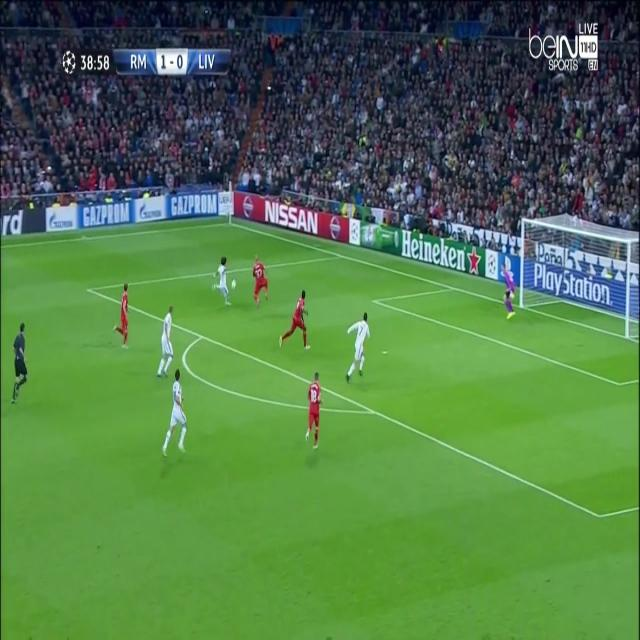Ball: (230, 276, 238, 294)
Goalkeeper: (501, 261, 518, 322)
Player: (162, 370, 188, 460), (276, 288, 312, 351), (344, 310, 373, 385), (304, 370, 324, 454), (156, 306, 177, 384), (112, 277, 132, 349), (251, 254, 271, 308)
Referee: (9, 324, 29, 404)
